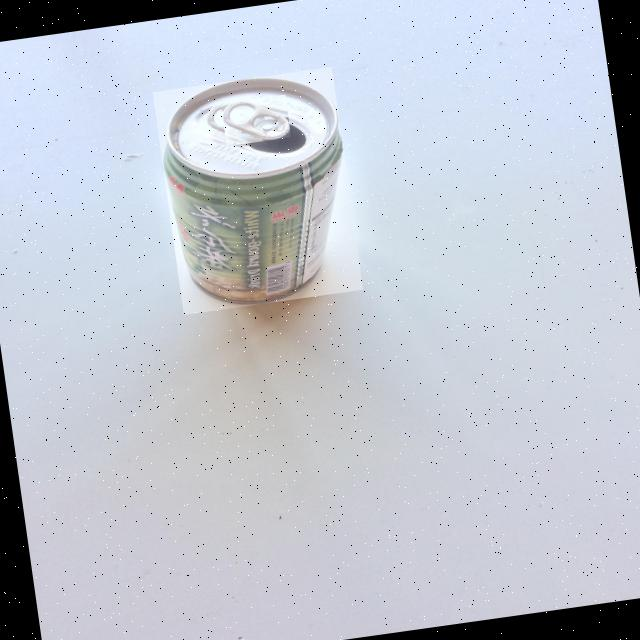Drink can: (163, 78, 343, 305)
Pop tab: (223, 101, 290, 140)
